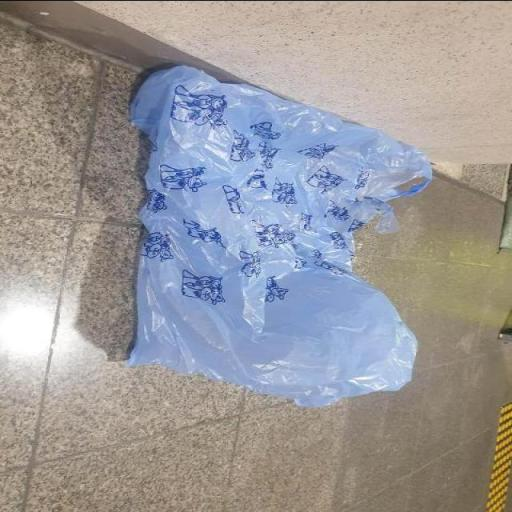plastic-bag: (126, 64, 435, 408)
